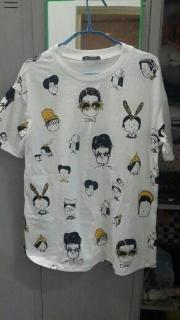short sleeve dress: (0, 42, 174, 276)
